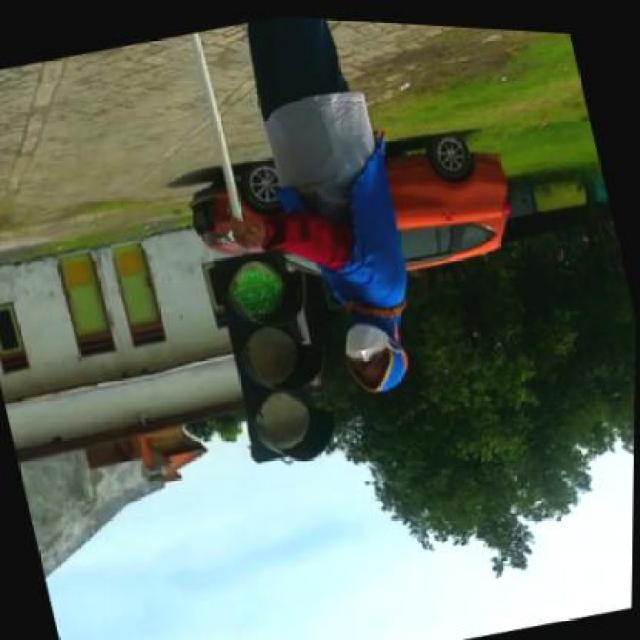green_light: (205, 237, 348, 468)
